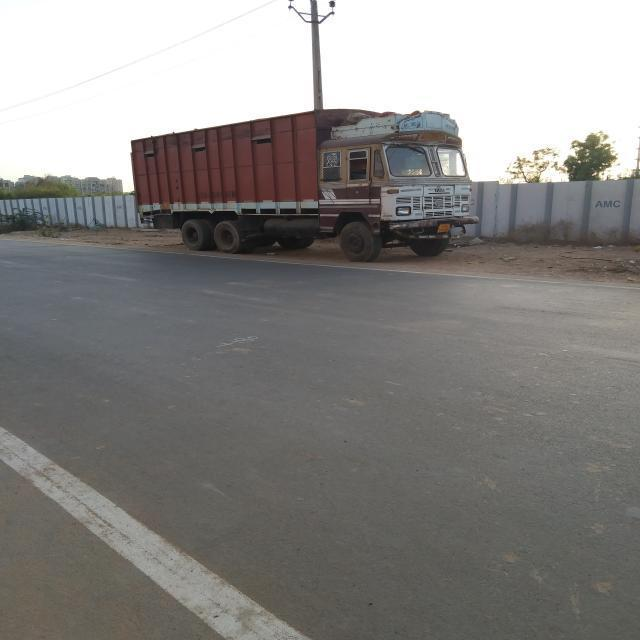truck_front: (128, 105, 486, 266)
